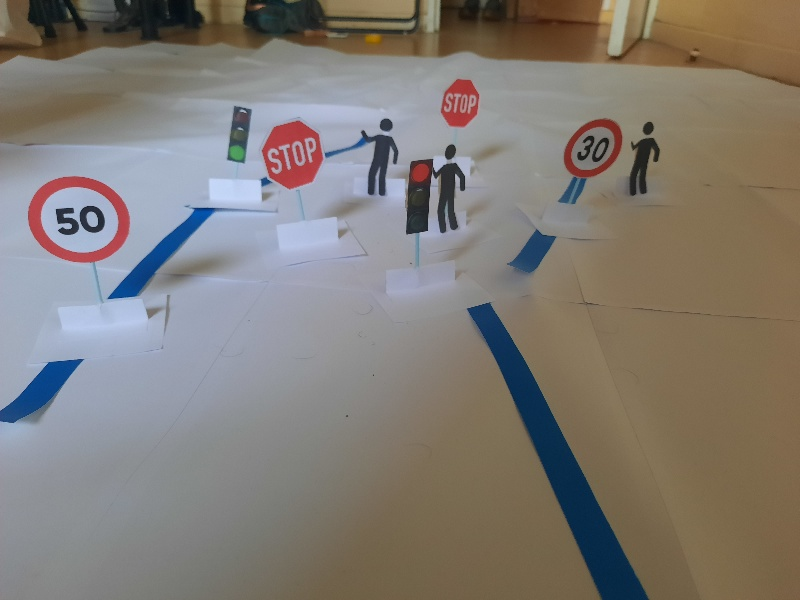Green: (225, 104, 252, 166)
Limit 30: (565, 118, 620, 173)
Limit 50: (27, 177, 127, 258)
Person: (433, 143, 467, 231), (361, 120, 399, 194), (621, 122, 660, 191)
Red: (406, 157, 429, 234)
Stop: (268, 119, 323, 186), (440, 79, 477, 128)
